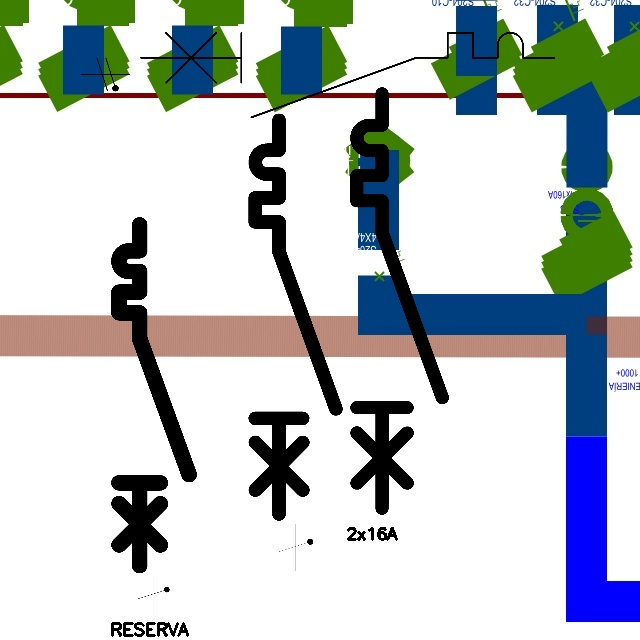interruptor_termomagnetico: (346, 83, 452, 519), (130, 22, 565, 128), (245, 110, 346, 524), (110, 216, 197, 574)
